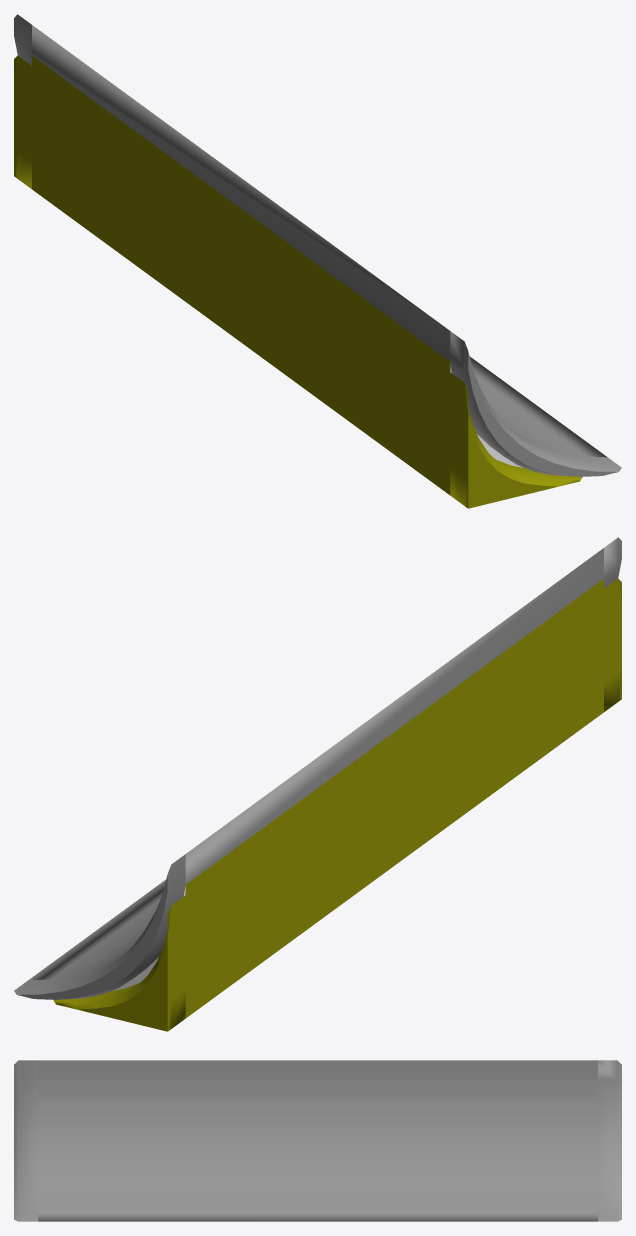
The model's file is Mesh_Levelblock_Curve_Ramp.FBX.
The picture shows the model from 3 angles, top to bottom: view 1: azimuth 30°, elevation 25°; view 2: azimuth 150°, elevation 25°; view 3: azimuth 270°, elevation 25°; orthographic projection. The views are drawn at different scales.
Parts seen in each view (by area): view 1: Mesh_Pipe1; view 2: Mesh_Pipe1; view 3: Mesh_Pipe1.
Boxes of the visible parts, x1=… form: Mesh_Pipe1: x1=14, y1=14, x2=621, y2=508; Mesh_Pipe1: x1=14, y1=537, x2=621, y2=1031; Mesh_Pipe1: x1=14, y1=1060, x2=621, y2=1221.
Bounding box in the file's own units: 2 × 2 × 10.
